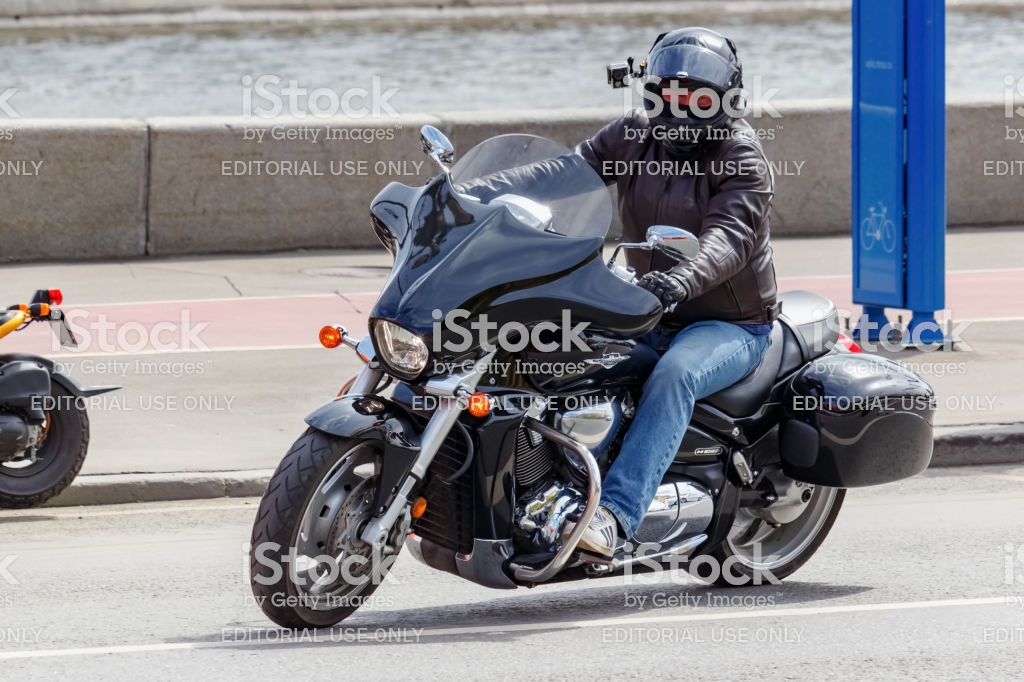helmet: (623, 27, 757, 147)
